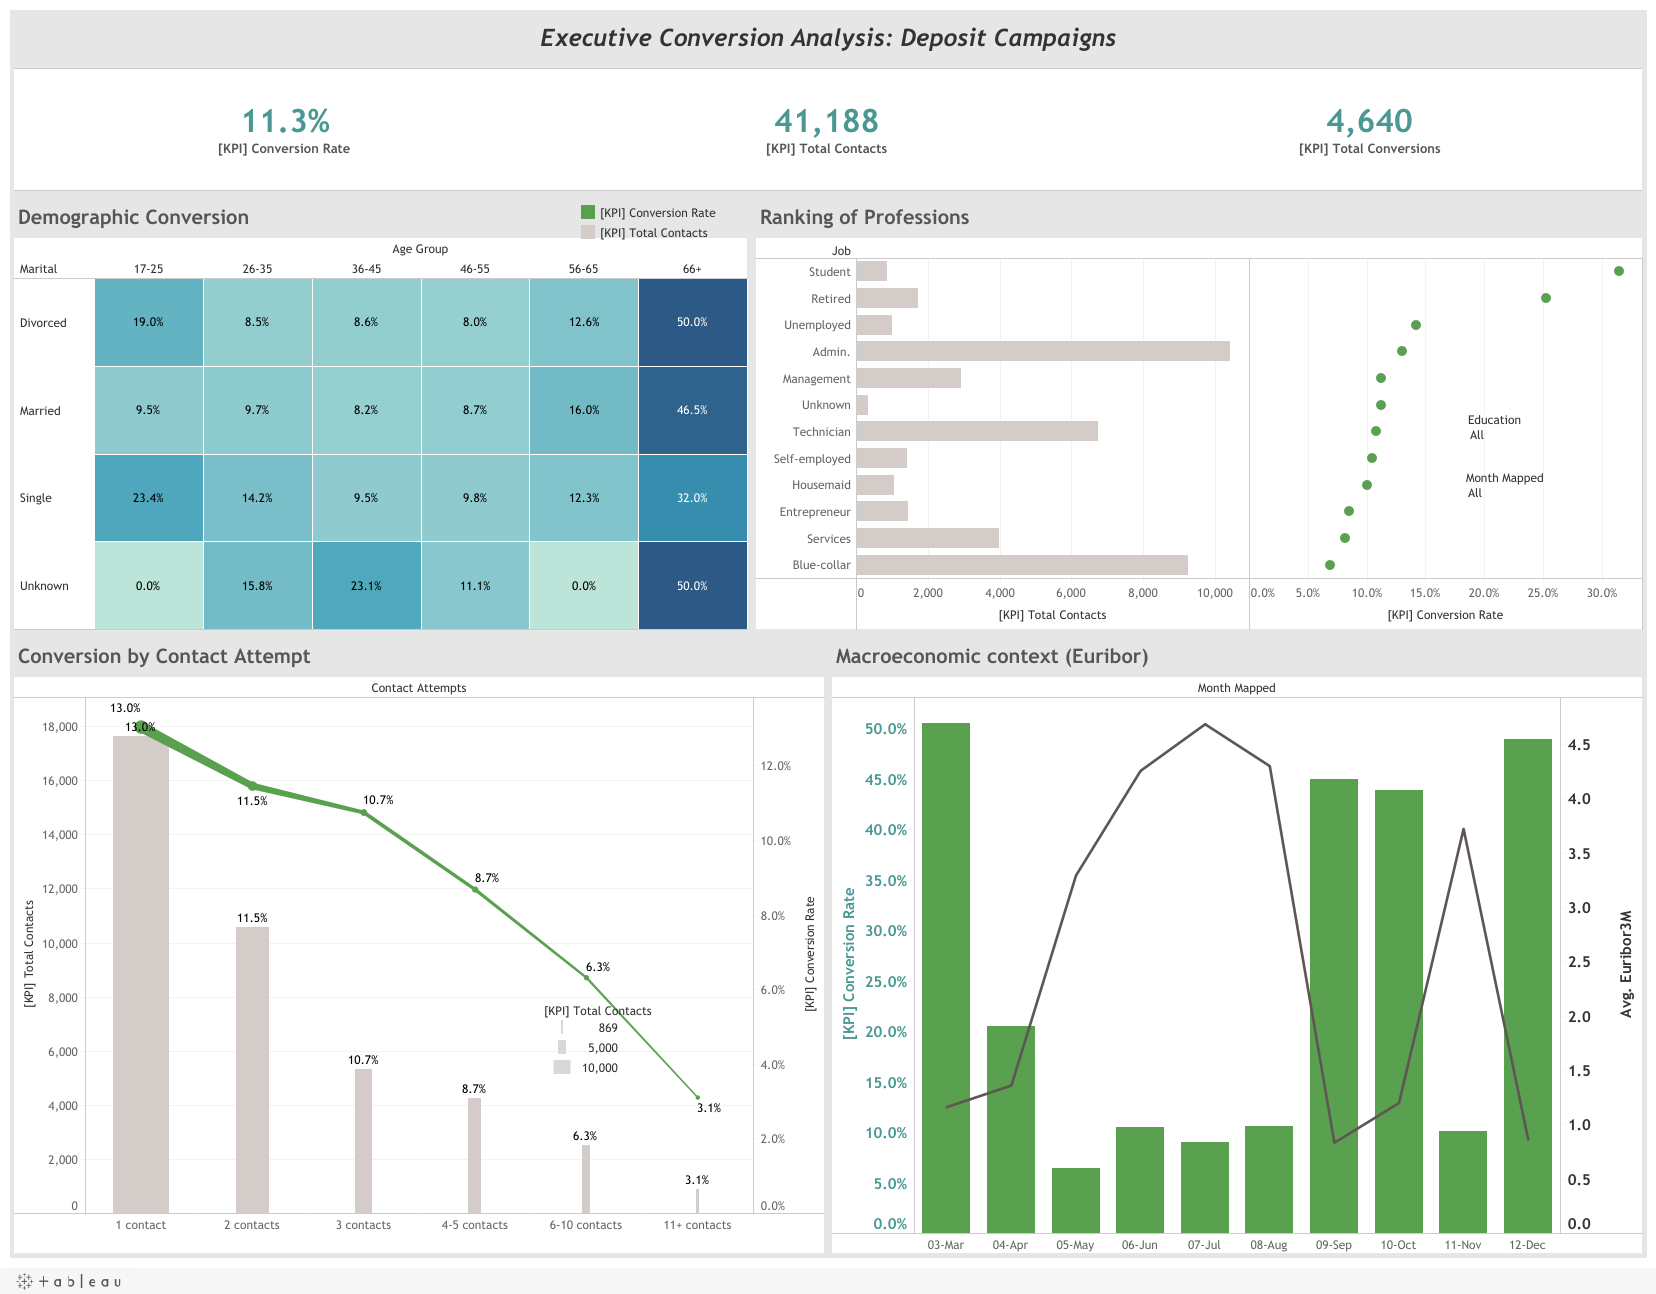

Layout of this report page (visuals, bound fields, positions):
{"tool":"tableau","page":{"name":"Executive Conversion Analysis: Deposit Campaigns","canvas":[1657,1268],"ordinal":0},"visuals":[{"type":"title","box":[20,20,1617,54]},{"type":"worksheet","title":"BANs - Summary","mark":"Automatic","box":[20,74,1617,126.3]},{"type":"worksheet","title":"Demographic Conversion","mark":"Square","rows":["marital"],"cols":["age_group"],"box":[20,200.3,742,423.6]},{"type":"worksheet","title":"Ranking of Professions","mark":"Automatic","rows":["job"],"cols":["Calculation_1741204222858887169","Calculation_1741204222858514432"],"box":[762,200.3,875,423.6]},{"type":"legend","title":"Ranking of Professions","param":"[federated.12rukah16prn8t181da5d10u05ff].[:Measure Names]","box":[578,202,180,105]},{"type":"filter","title":"Ranking of Professions","param":"[federated.12rukah16prn8t181da5d10u05ff].[none:education:nk]","box":[1468,411,160,53]},{"type":"filter","title":"Ranking of Professions","param":"[federated.12rukah16prn8t181da5d10u05ff].[none:month_mapped:nk]","box":[1466,469,160,53]},{"type":"worksheet","title":"Conversion by Contact Attempt","mark":"Bar","rows":["Calculation_1741204222858887169","Calculation_1741204222858514432"],"cols":["Calculation_1741204222894350339"],"box":[10,634,818.5,624]},{"type":"worksheet","title":"Macroeconomic context (Euribor)","mark":"Automatic","rows":["Calculation_1741204222858514432","euribor3m"],"cols":["month_mapped"],"box":[828.5,634,818.5,624]},{"type":"legend","title":"Conversion by Contact Attempt","param":"[federated.12rukah16prn8t181da5d10u05ff].[usr:Calculation_1741204222858887169:qk","box":[543,1001,170,77]}]}

Visuals, with their boxes in screenshot pixels (x1, y1, x2, y2), scaled from the page's 1657x1268 canvas onto the 1656x1294 screenshot:
title: left=20, top=20, right=1636, bottom=76
"BANs - Summary" worksheet: left=20, top=76, right=1636, bottom=204
"Demographic Conversion" worksheet (Square marks): left=20, top=204, right=762, bottom=637
"Ranking of Professions" worksheet: left=762, top=204, right=1636, bottom=637
"Ranking of Professions" legend: left=578, top=206, right=758, bottom=313
"Ranking of Professions" filter: left=1467, top=419, right=1627, bottom=474
"Ranking of Professions" filter: left=1465, top=479, right=1625, bottom=533
"Conversion by Contact Attempt" worksheet (Bar marks): left=10, top=647, right=828, bottom=1284
"Macroeconomic context (Euribor)" worksheet: left=828, top=647, right=1646, bottom=1284
"Conversion by Contact Attempt" legend: left=543, top=1022, right=713, bottom=1100
